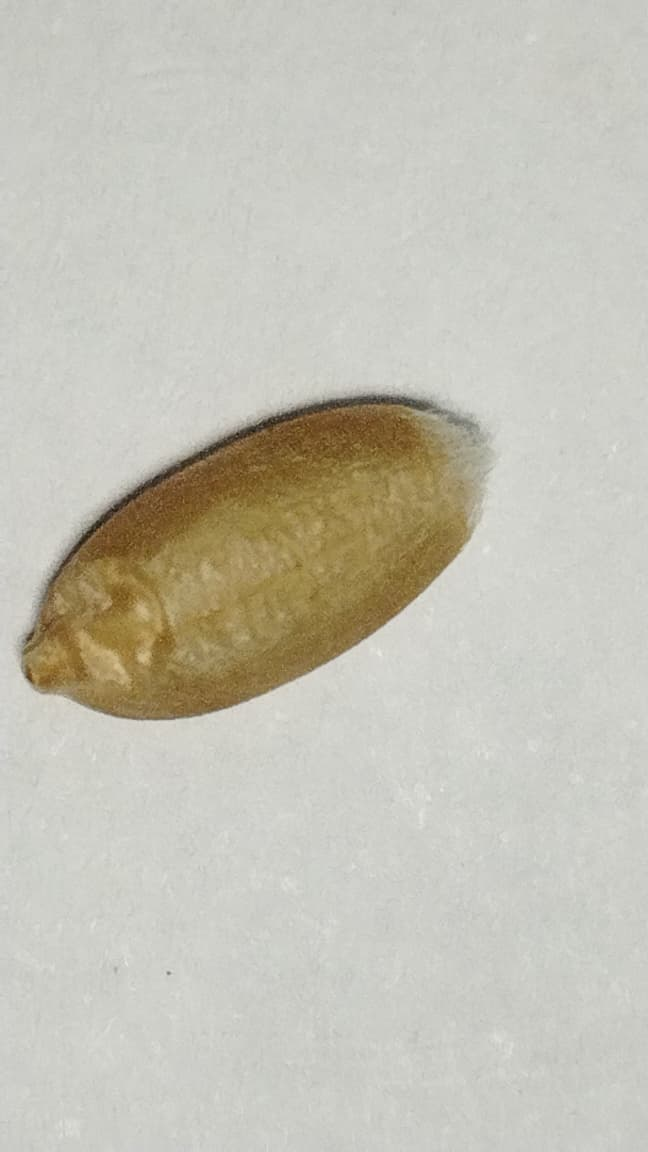healthy: (25, 397, 490, 717)
